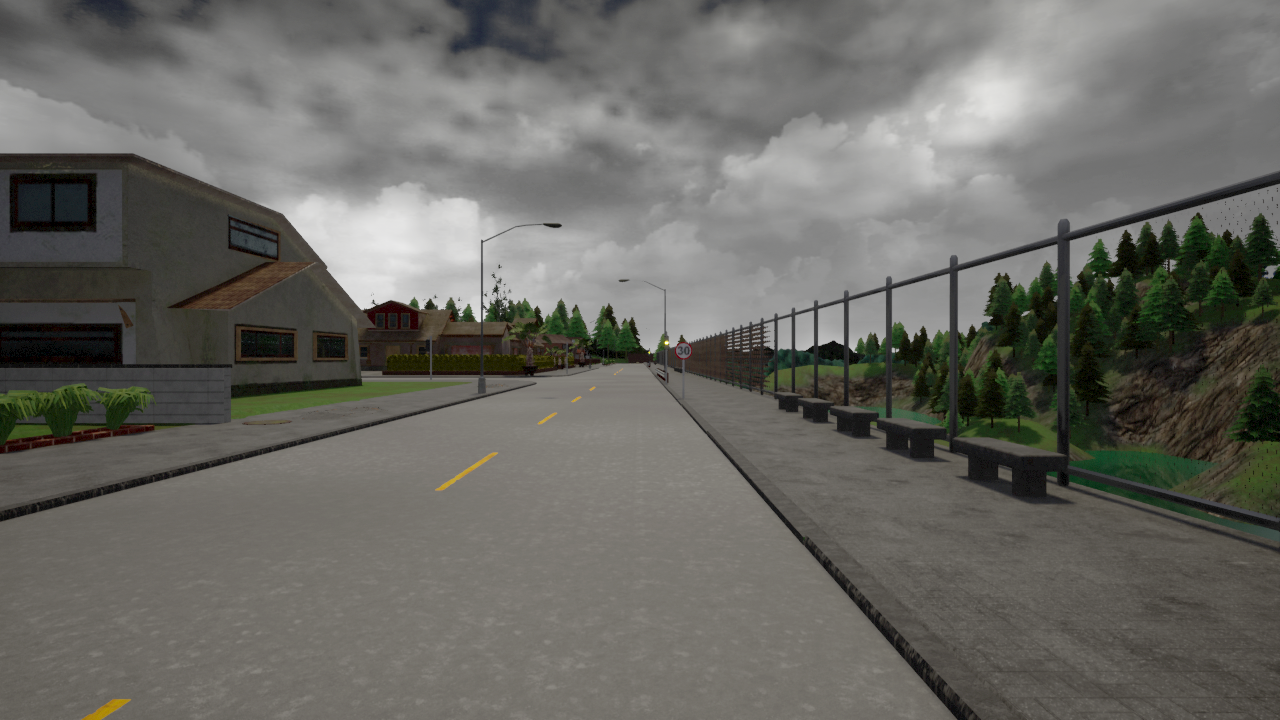yellow: (663, 334, 671, 350)
